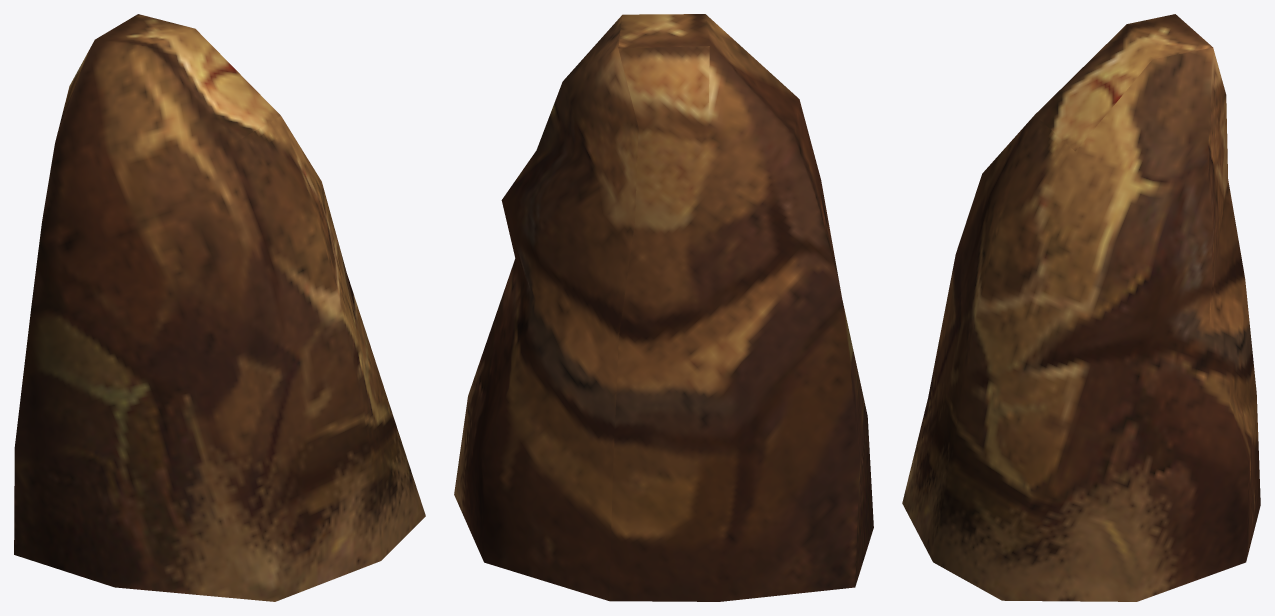
File: ShiTou11.FBX
3 renders of one model, left to right at view 1: azimuth 30°, elevation 25°; view 2: azimuth 150°, elevation 25°; view 3: azimuth 270°, elevation 25°, orthographic. The views are drawn at different scales.
Visible parts, largest first — view 1: ShiTou11; view 2: ShiTou11; view 3: ShiTou11.
Part boxes in pixels (bbox=[...]): ShiTou11: bbox=[14, 14, 425, 601]; ShiTou11: bbox=[454, 14, 873, 601]; ShiTou11: bbox=[902, 14, 1260, 601].
Size of the model in its own units: 141 by 182 by 125.
